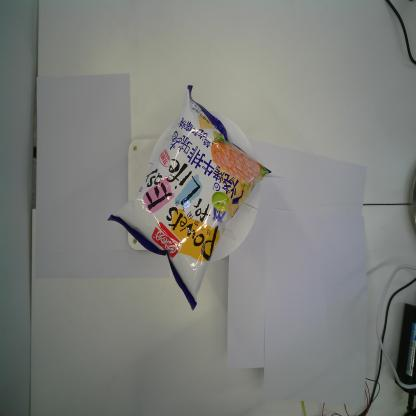Puffed Food: (107, 84, 272, 312)
